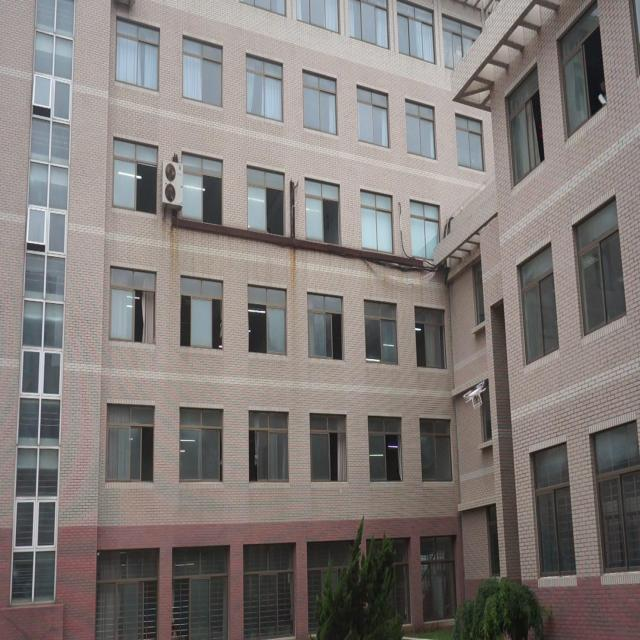drone: (462, 378, 488, 413)
